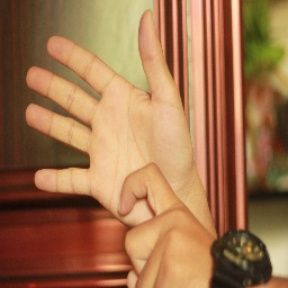R: (23, 10, 219, 288)
